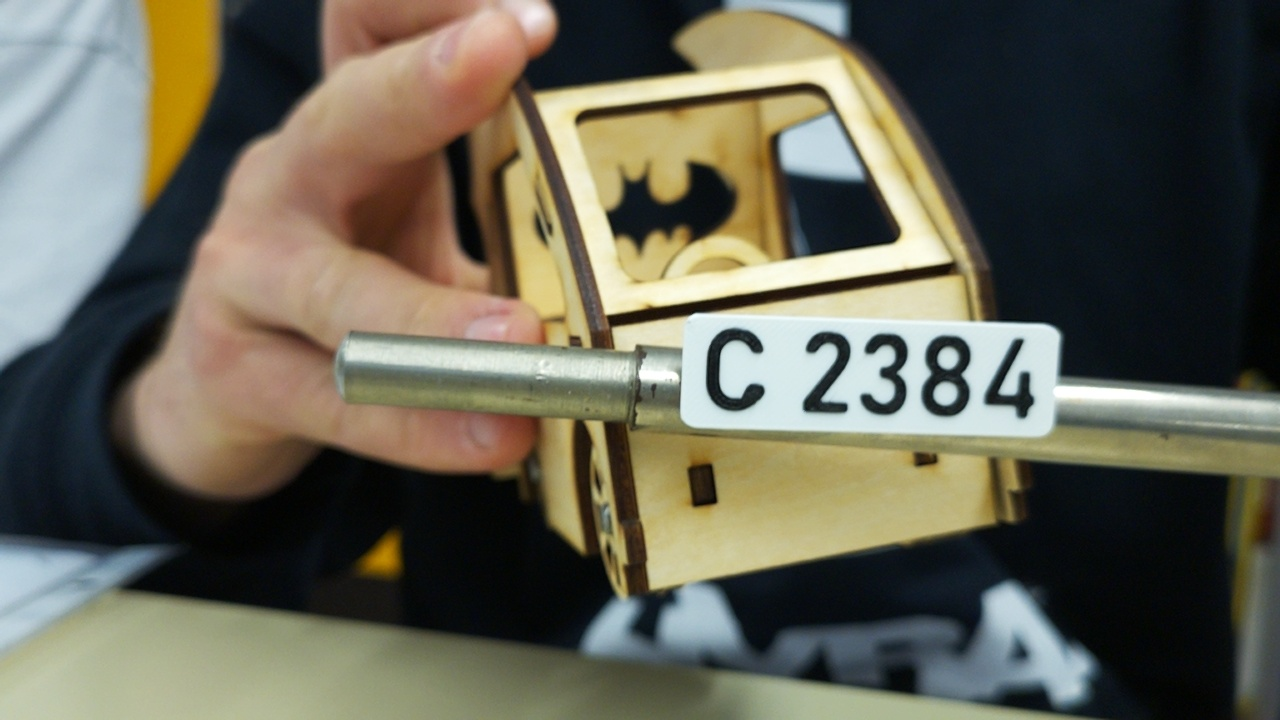license_plate: (679, 311, 1061, 440)
